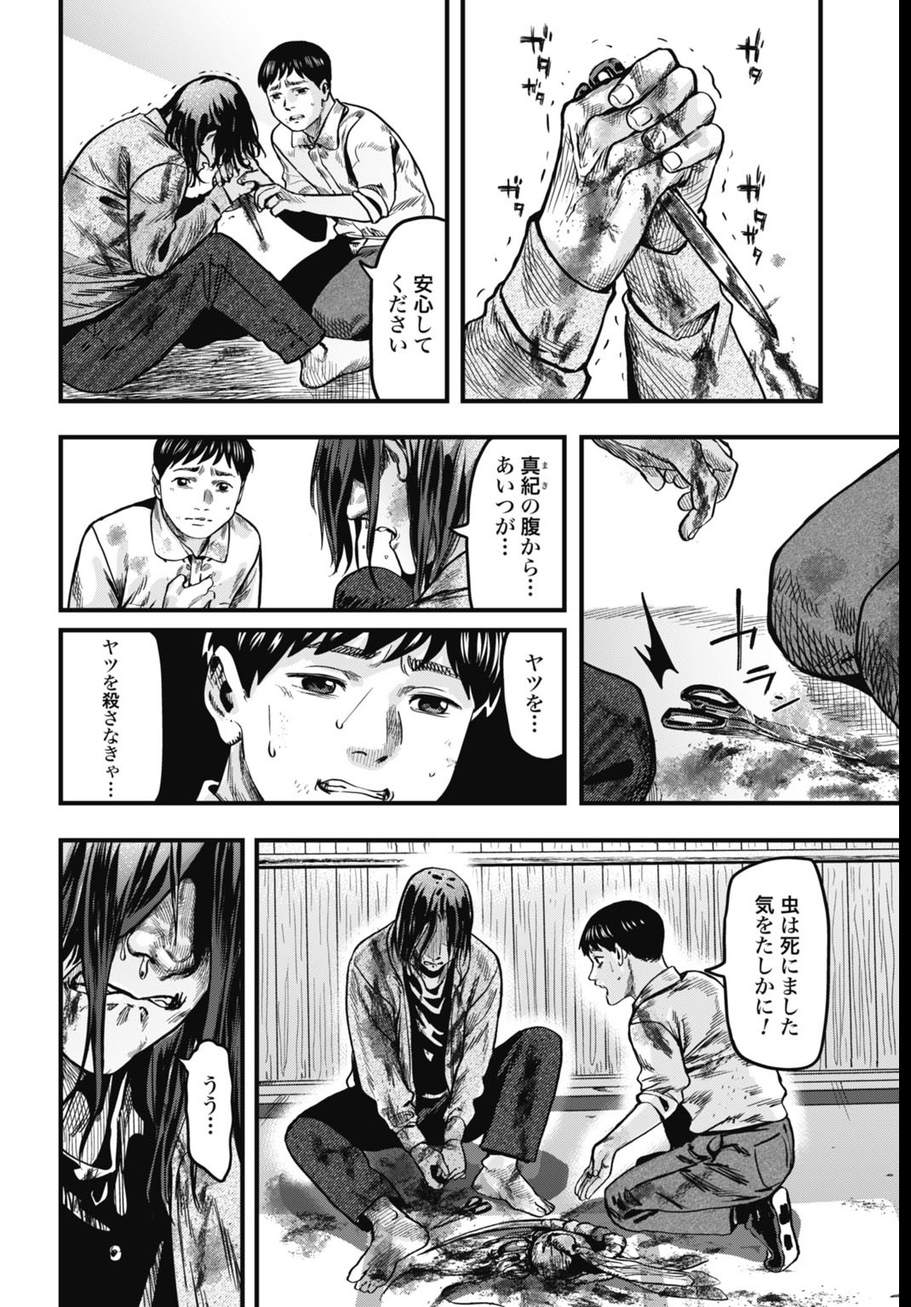bubbles: (702, 848, 836, 1086), (444, 437, 569, 615), (60, 628, 169, 804), (351, 212, 449, 403), (169, 1038, 238, 1189), (490, 630, 568, 762)
